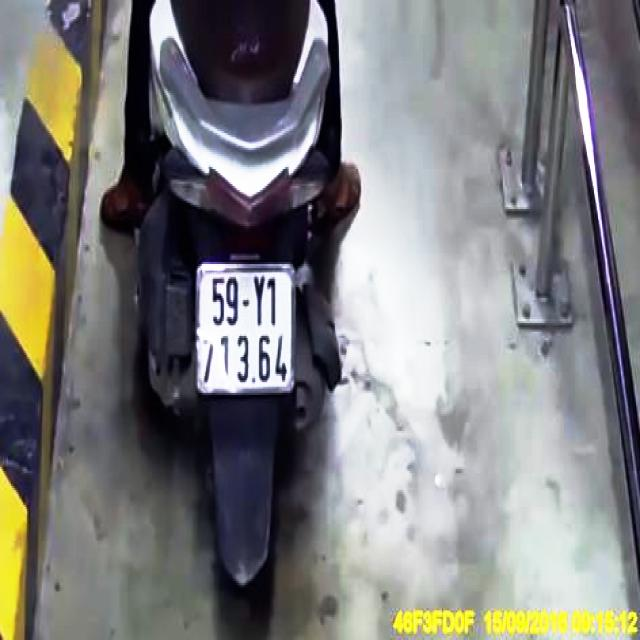license_plate: (199, 270, 297, 394)
